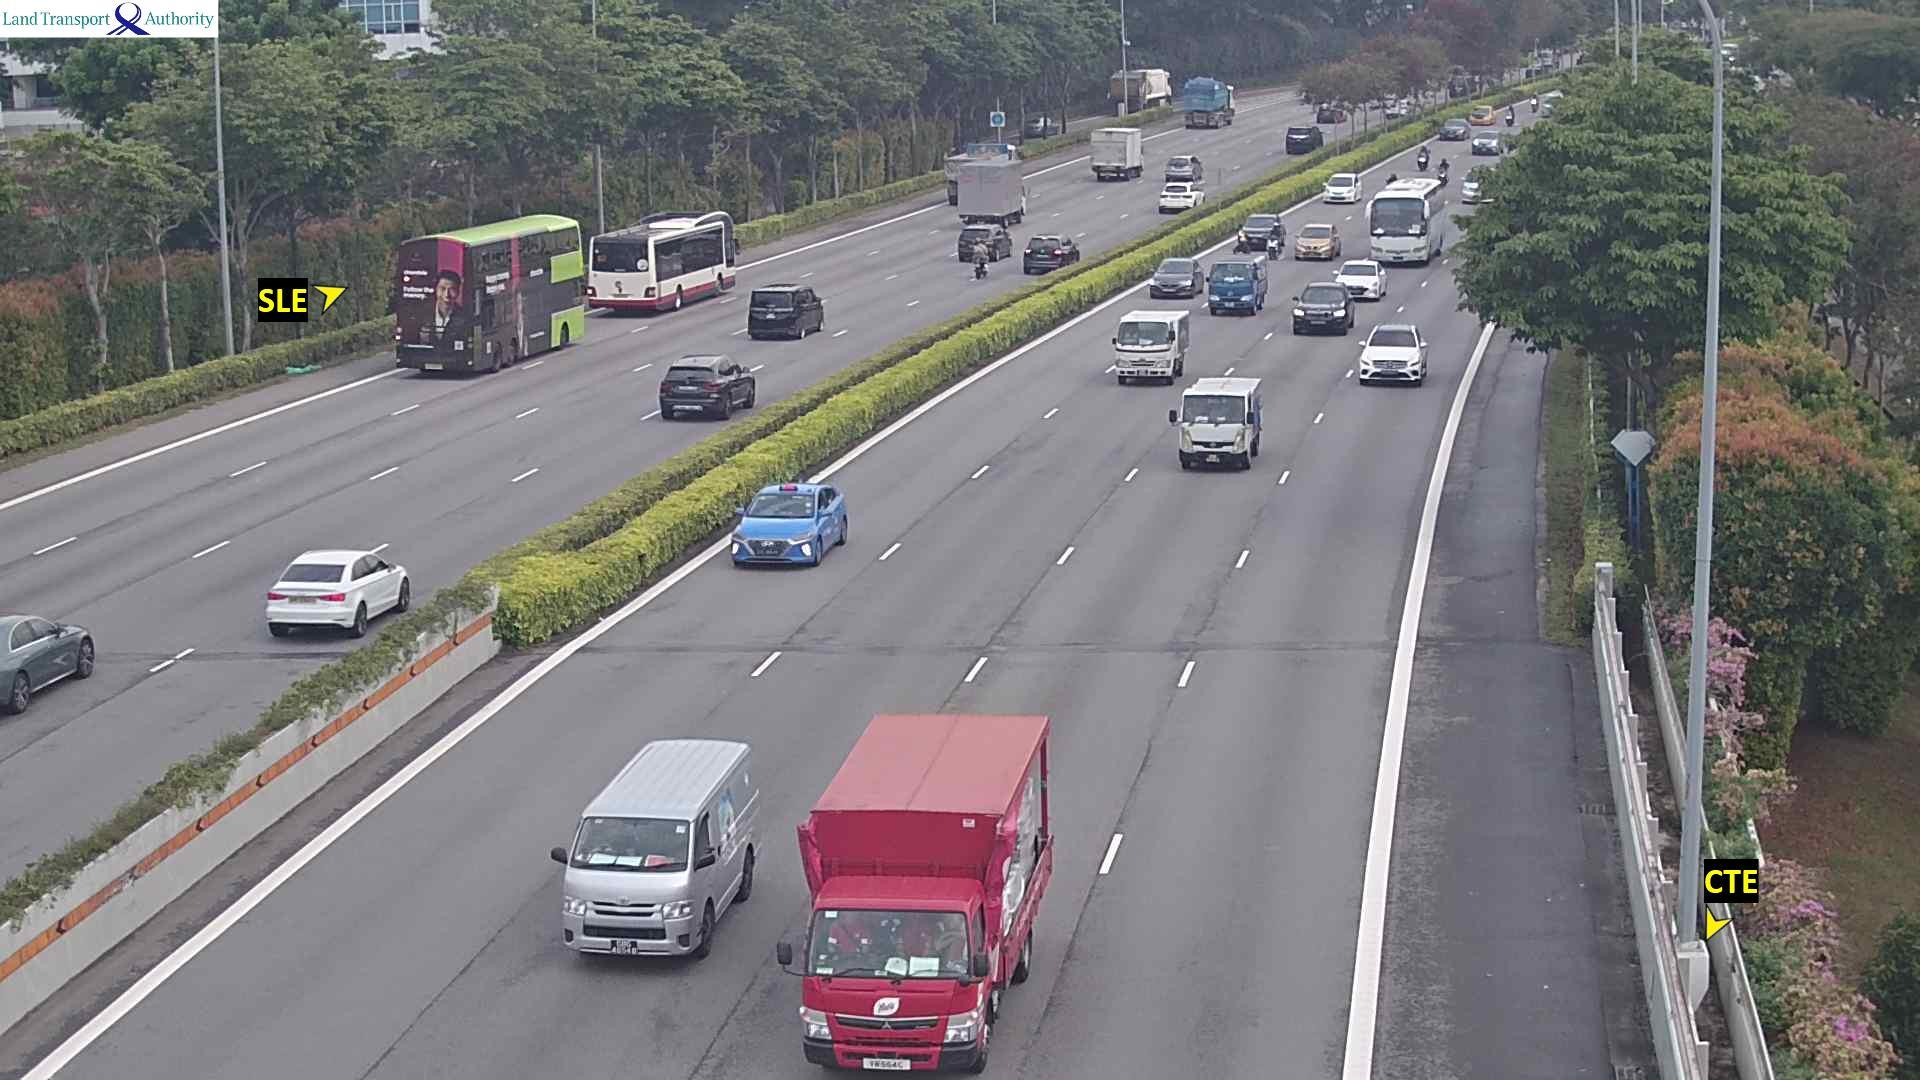incoming: (771, 905, 994, 1080), (547, 811, 719, 975), (727, 485, 843, 570), (1166, 392, 1257, 473), (1108, 316, 1179, 386), (1362, 195, 1432, 266), (1356, 326, 1429, 386), (1291, 282, 1357, 338), (1203, 260, 1263, 316), (1147, 258, 1204, 299), (1331, 261, 1389, 301), (1294, 227, 1341, 260), (1236, 215, 1278, 251), (1458, 170, 1497, 204), (1320, 175, 1361, 204), (1470, 131, 1502, 156), (1465, 104, 1495, 127), (1437, 119, 1469, 140), (1263, 231, 1282, 261), (1414, 150, 1431, 171), (1502, 107, 1516, 129), (1435, 166, 1451, 186), (1527, 95, 1542, 113)
